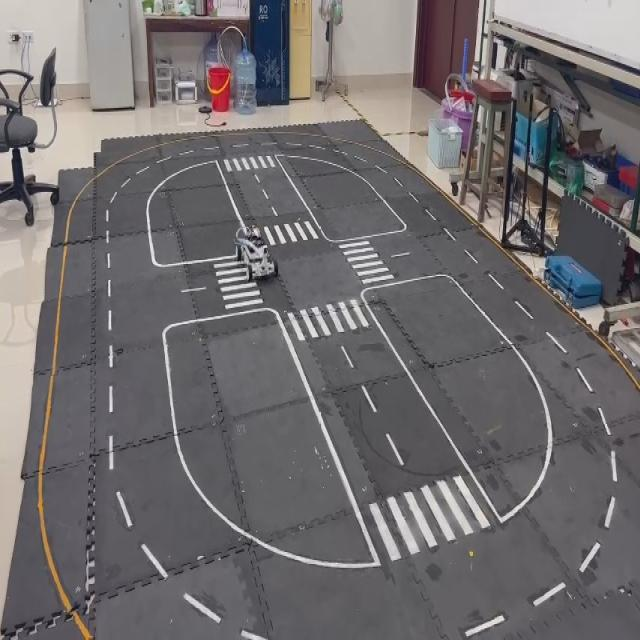SiCo-CAR: (232, 221, 278, 283)
